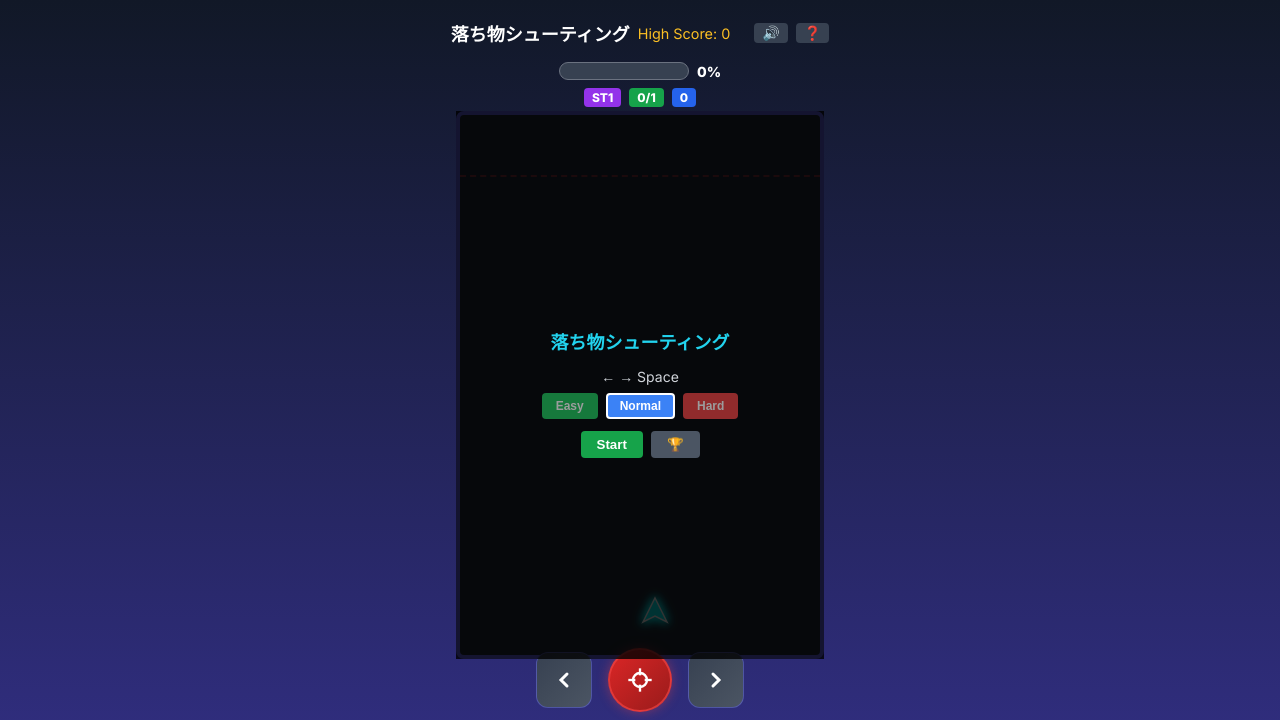
FalldownShooterGame 統合テスト › UI要素 › ヘルプボタンクリックでデモ画面が表示されること
This screenshot has width=1280, height=720.
Click the button "❓".
click(812, 33)  # box [796,23,829,43]
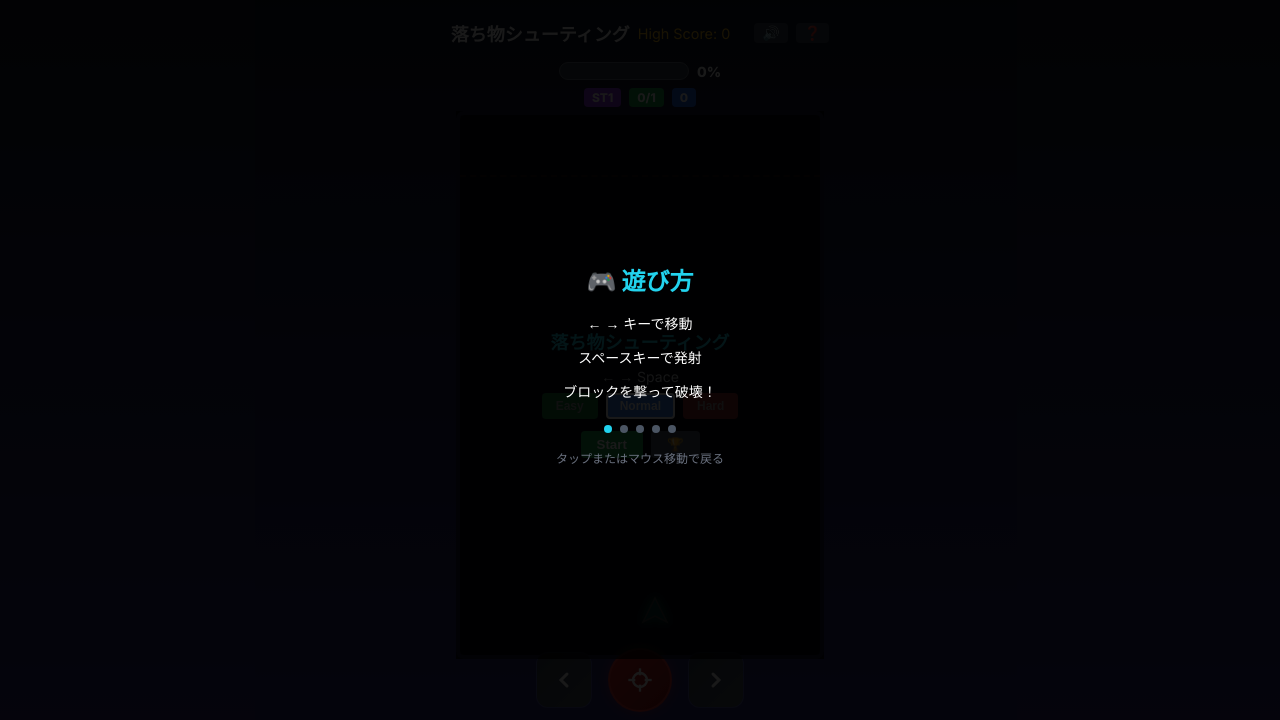
Result: the heading "🎮 遊び方" is shown at [586,267,694,296]
